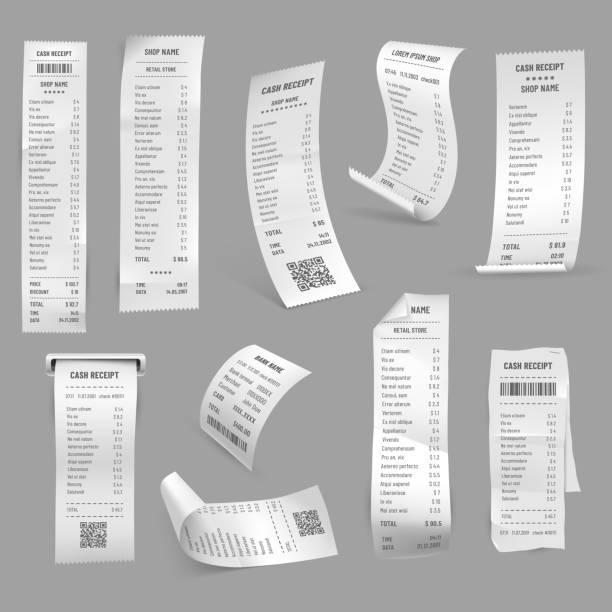Finder pattern: (296, 281, 313, 296), (312, 253, 327, 267), (283, 259, 299, 272), (296, 528, 310, 540), (291, 510, 303, 522), (316, 525, 328, 536), (77, 540, 89, 551), (79, 521, 90, 532), (98, 519, 107, 532)
